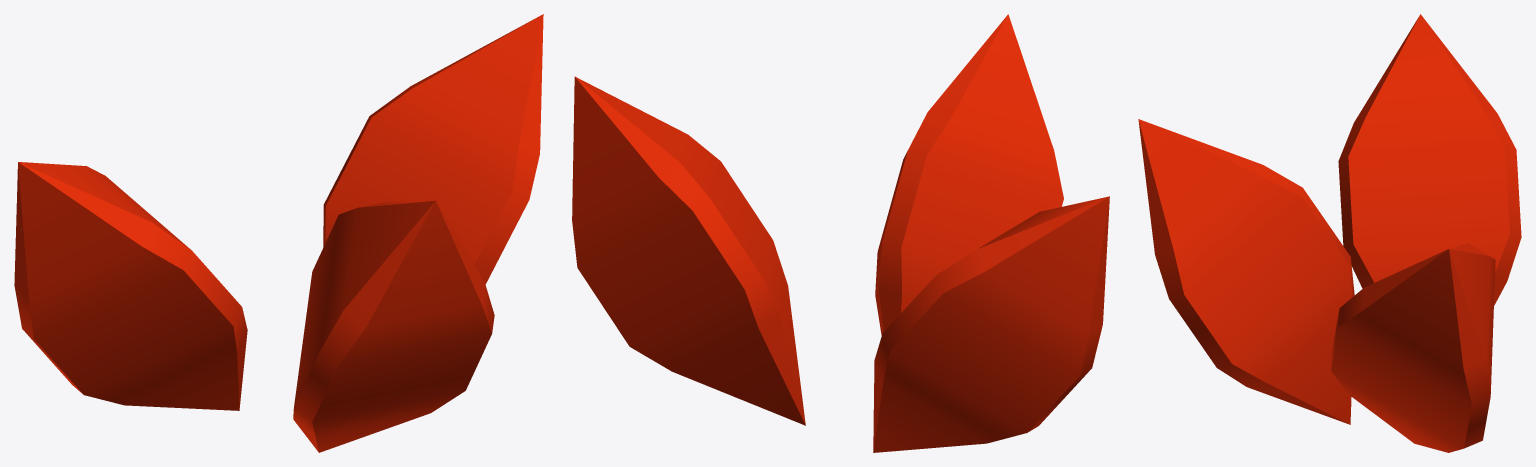
File: gem3.fbx
The picture shows the model from 3 angles, left to right: view 1: azimuth 30°, elevation 25°; view 2: azimuth 150°, elevation 25°; view 3: azimuth 270°, elevation 25°; orthographic projection. The views are drawn at different scales.
Parts seen in each view (by area): view 1: Circle.007; view 2: Circle.007; view 3: Circle.007.
Part boxes in pixels (x1,y1,x2,y2): Circle.007: (14, 14, 543, 452); Circle.007: (572, 14, 1109, 452); Circle.007: (1138, 14, 1521, 452).
Size of the model in its own units: 0.6154 by 0.3676 by 0.4175.
